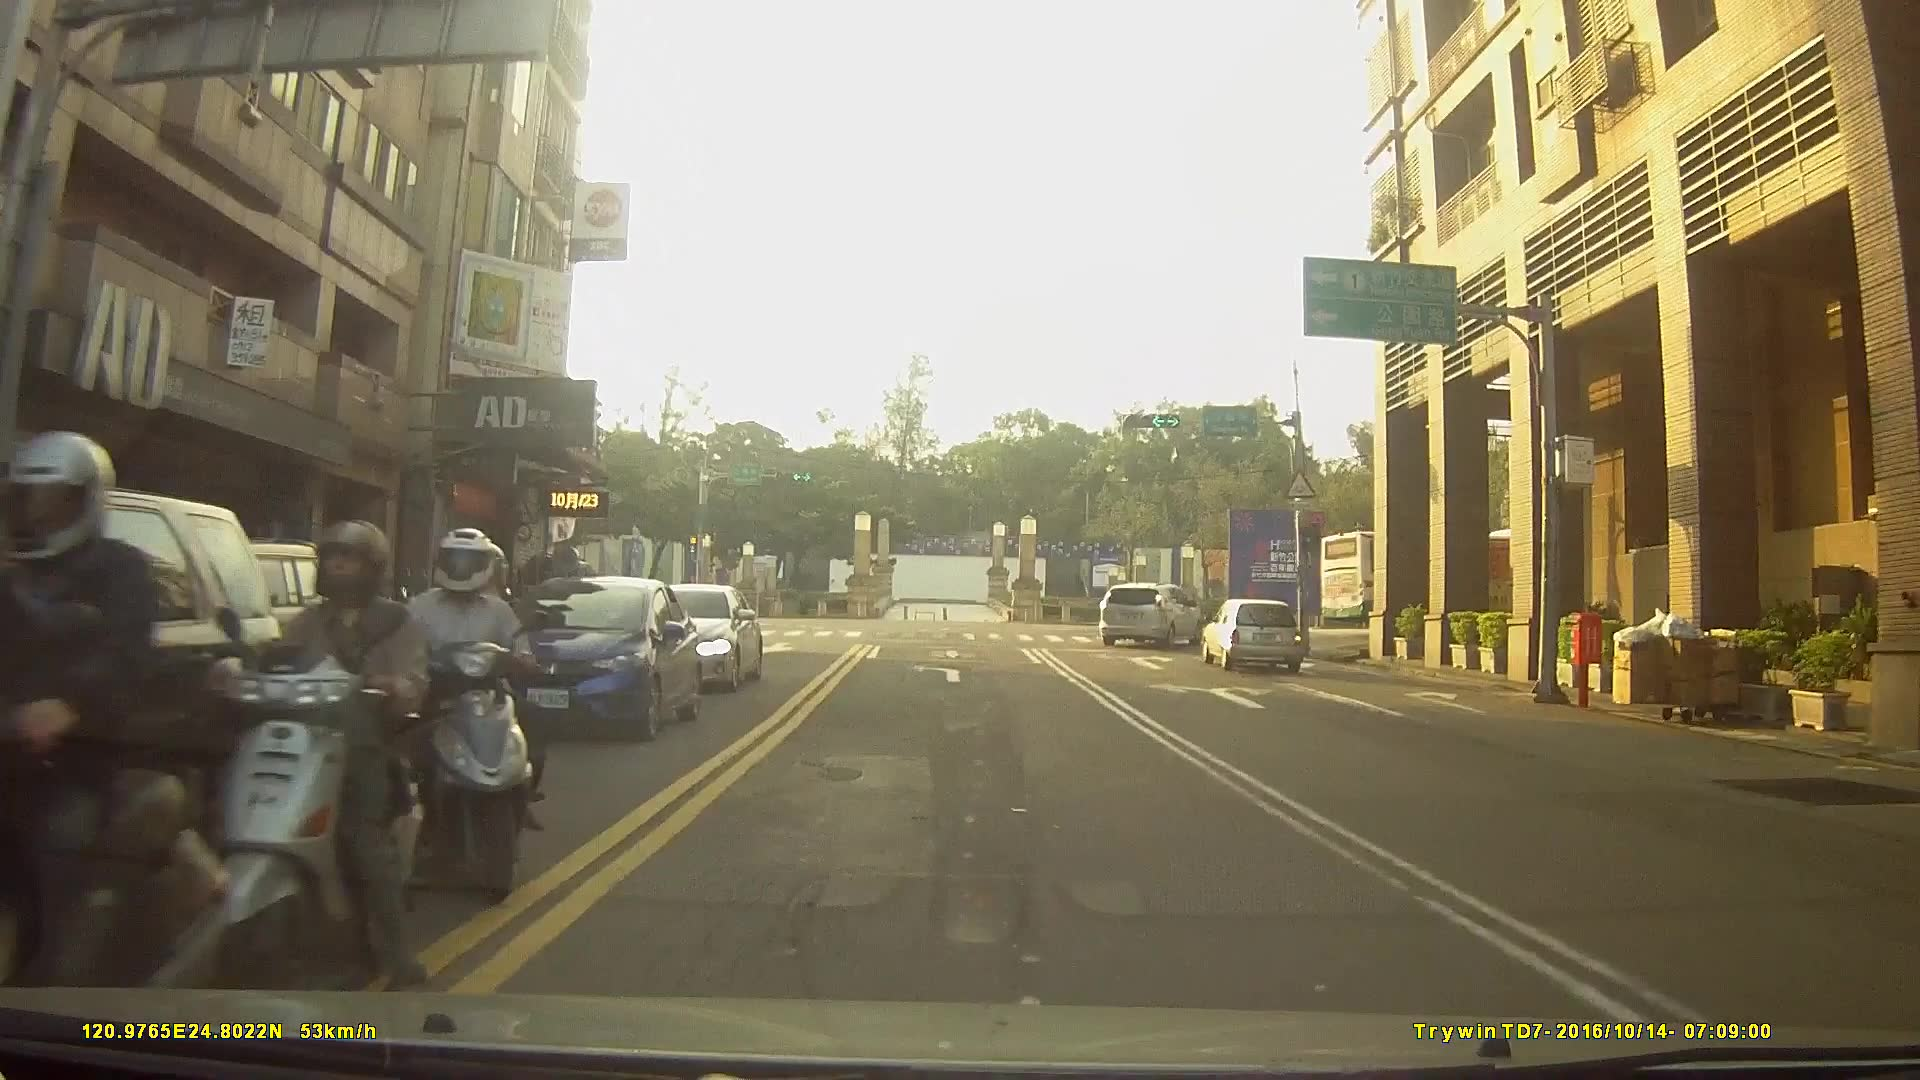rider: (1, 434, 245, 1080), (205, 520, 432, 1007), (375, 525, 555, 916)
vehicle: (473, 574, 701, 742), (1319, 526, 1585, 627), (607, 580, 759, 690), (1200, 595, 1303, 671), (1099, 581, 1203, 647)
